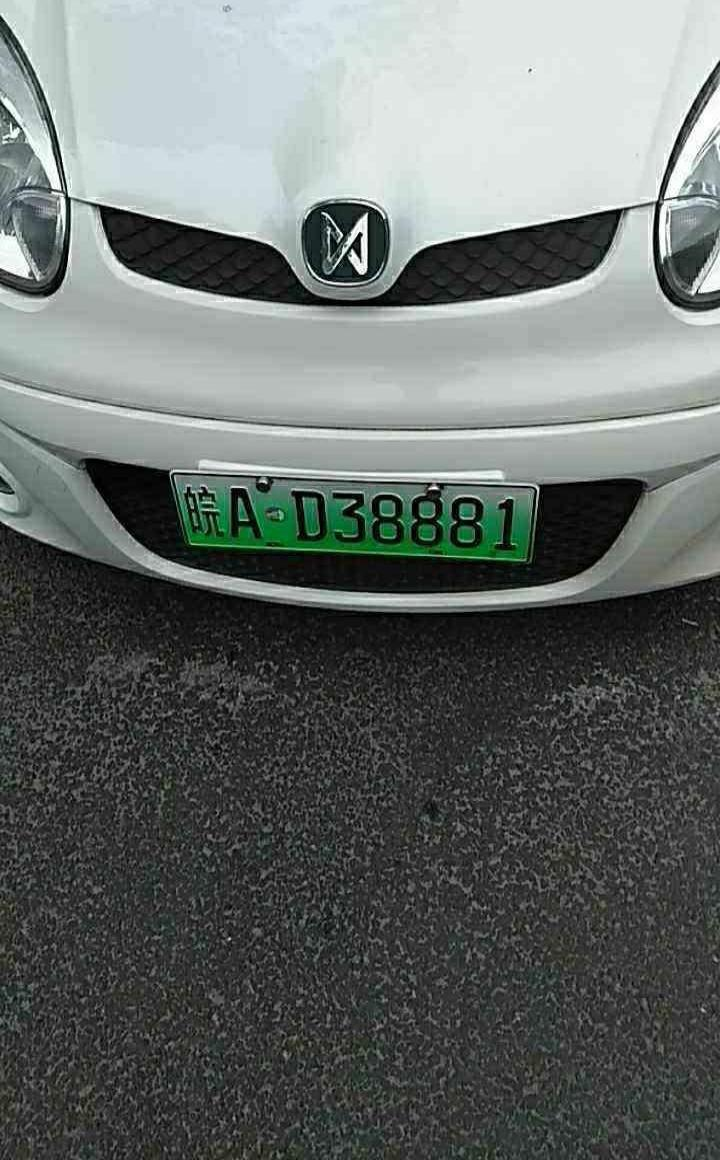car: (168, 462, 545, 572)
